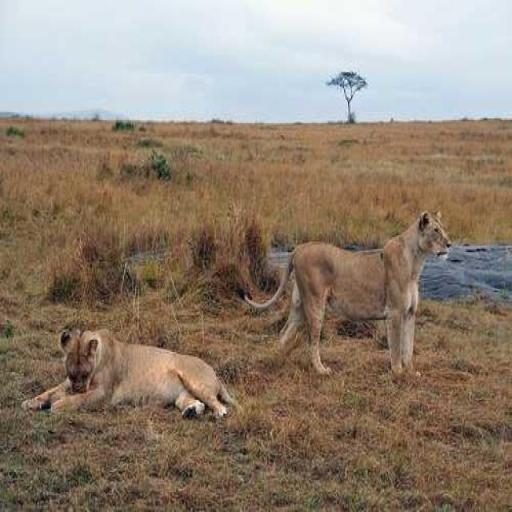Lion: (243, 208, 451, 381), (20, 326, 242, 420)
